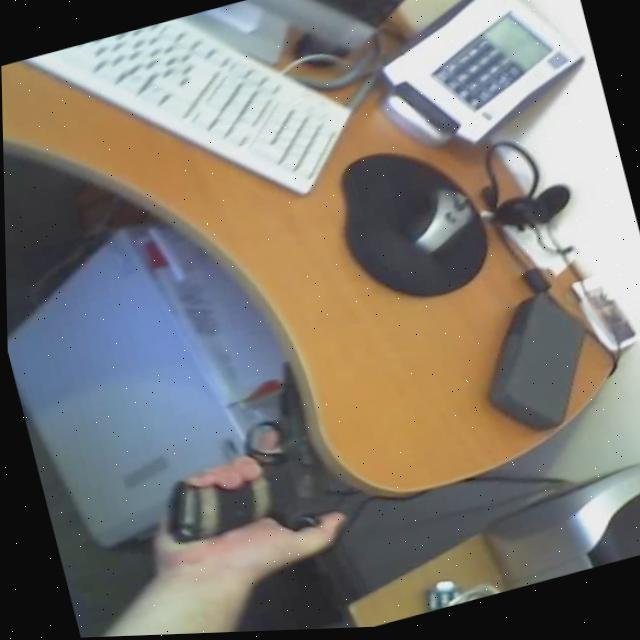pistol: (131, 357, 341, 568)
